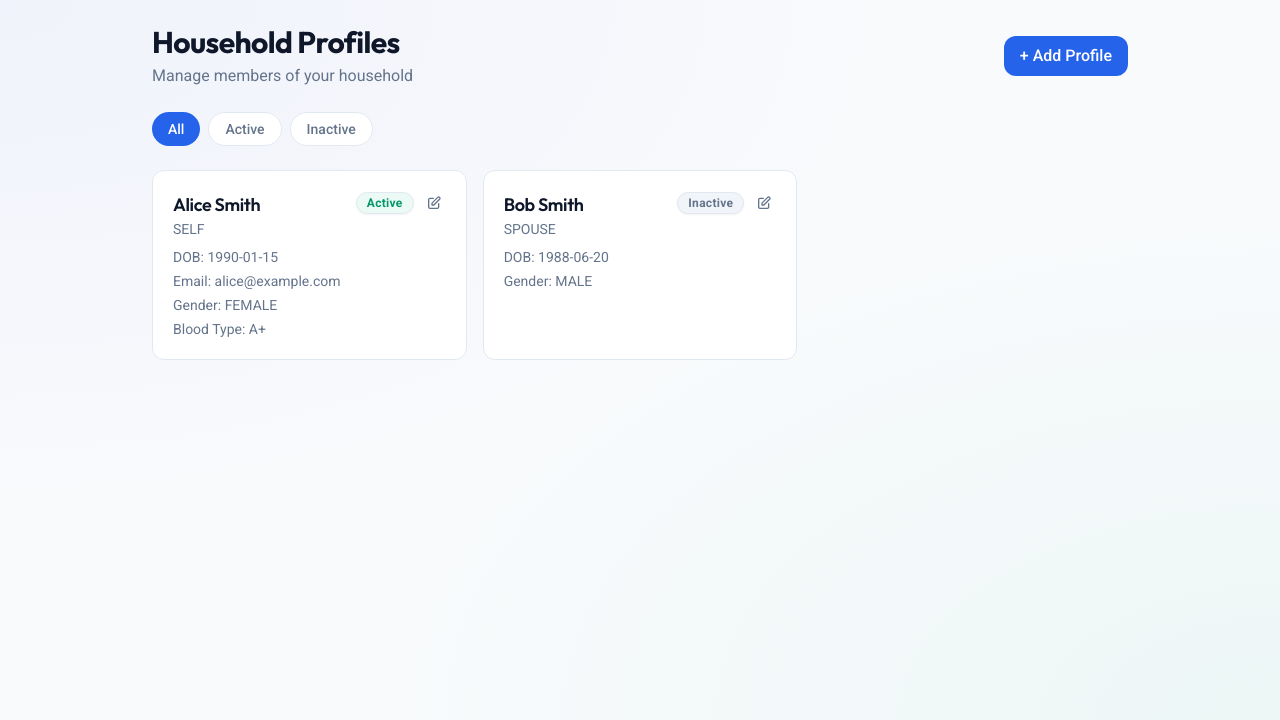
Scenario: Profiles page › edit modal closes when X button clicked
Check: the heading "Alice Smith" is shown, box [173, 191, 260, 219]
Click the button named "Edit profile" in the row of "Alice Smith" at (434,203), box [422, 191, 446, 215]
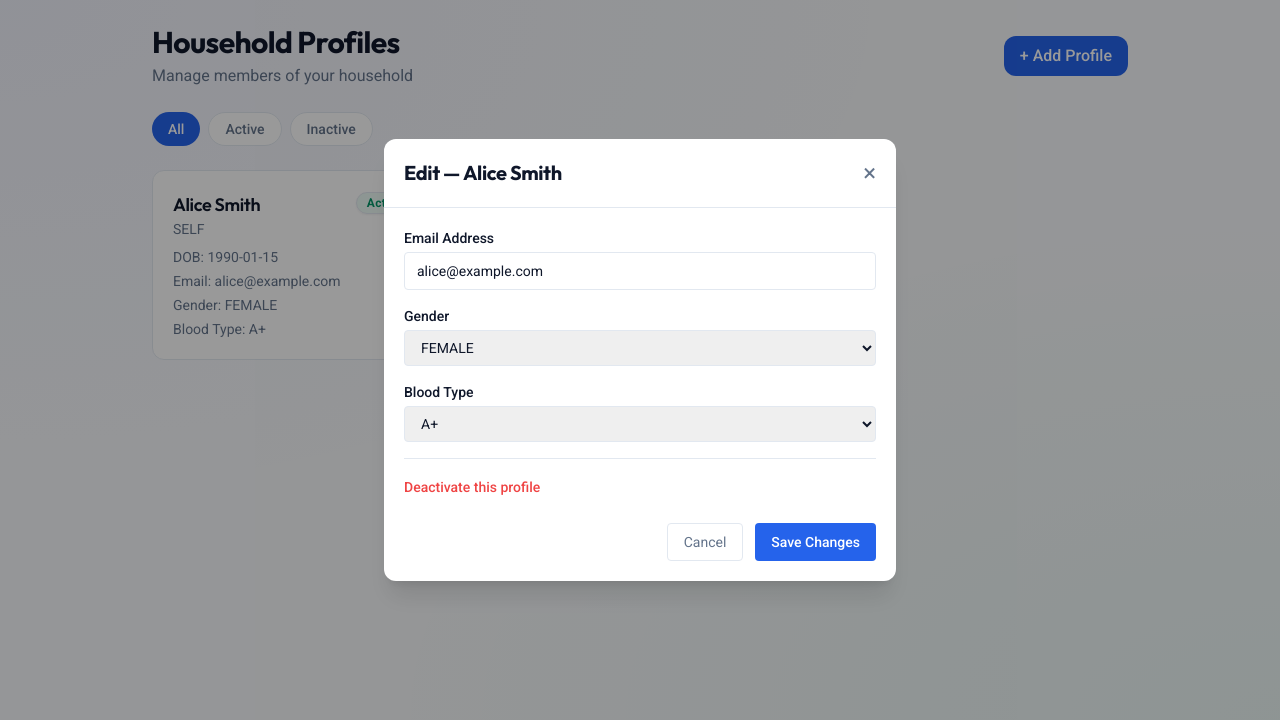
Check: the heading "Edit — Alice Smith" is shown, box [404, 159, 562, 187]
Click the button "×" at (870,173), box [863, 161, 876, 185]
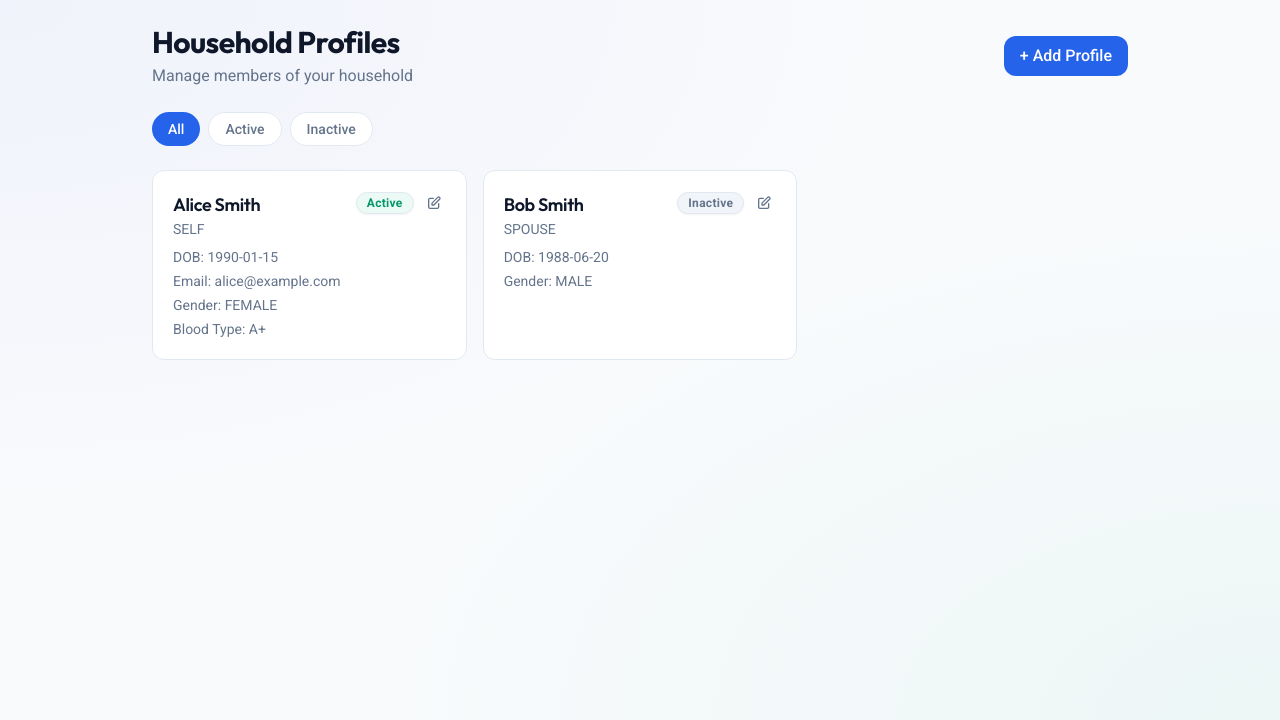
Check: the heading "Edit — Alice Smith" is gone
